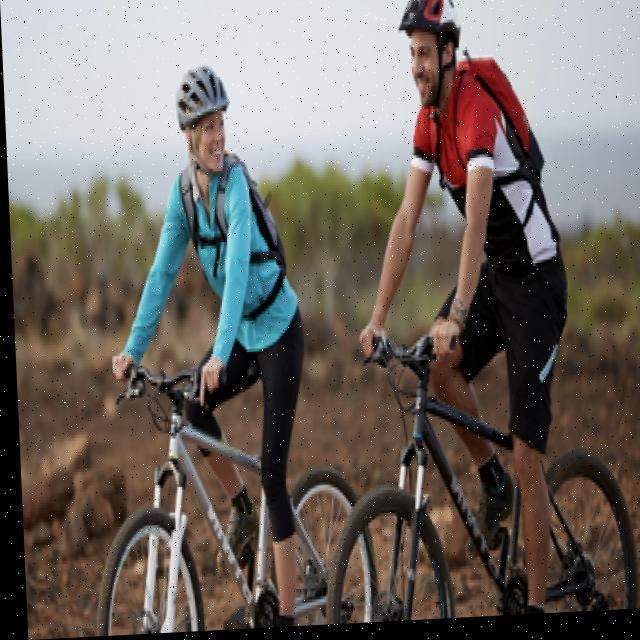Helmet: (167, 45, 236, 204), (386, 0, 475, 118)
